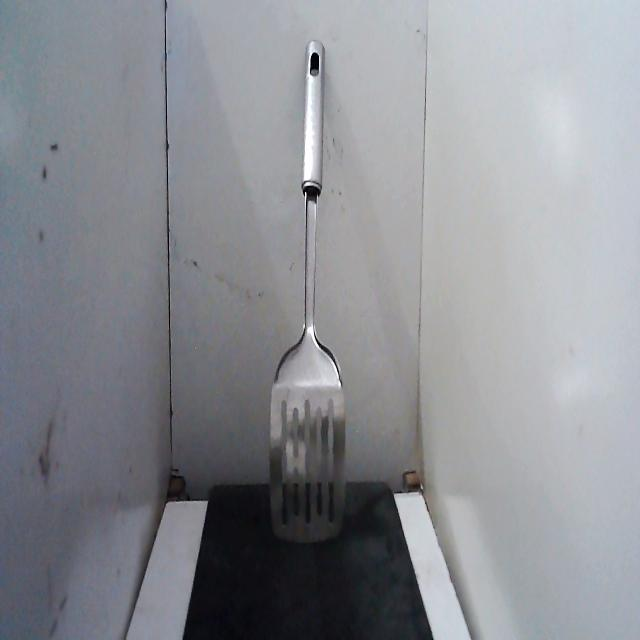metal: (263, 29, 357, 556)
